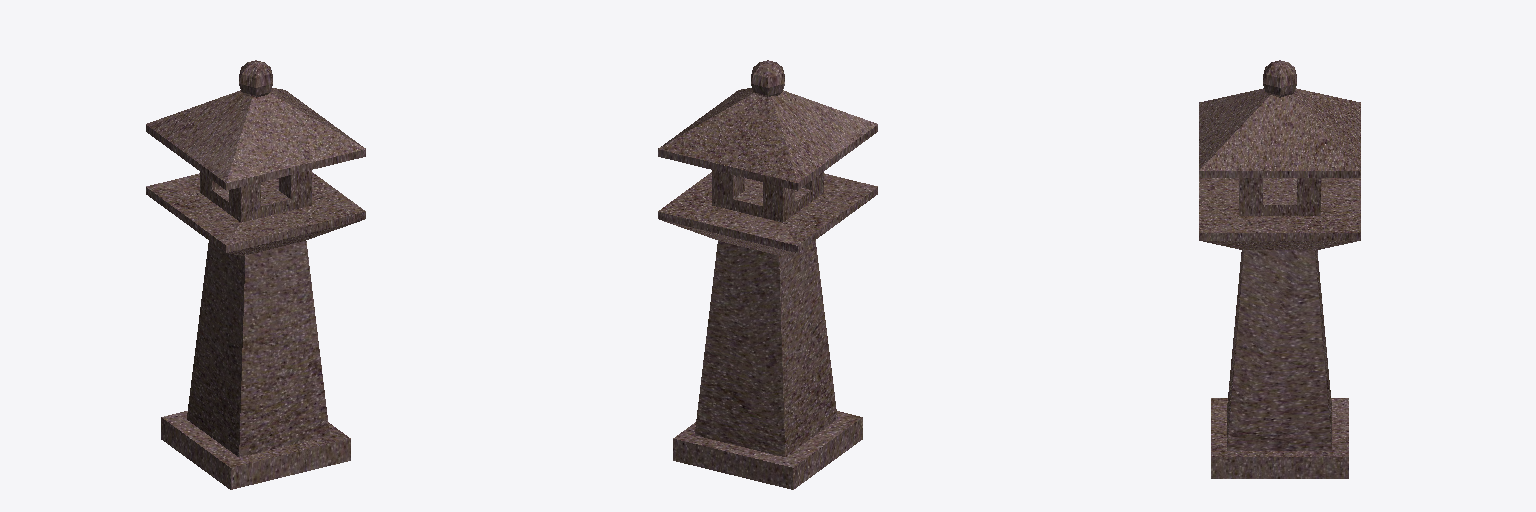
3 renders of one model, left to right at view 1: azimuth 30°, elevation 25°; view 2: azimuth 150°, elevation 25°; view 3: azimuth 270°, elevation 25°, orthographic.
Bounding box in the file's own units: 0.7519 × 1.99 × 0.7519.
2 materials, 1 textured.